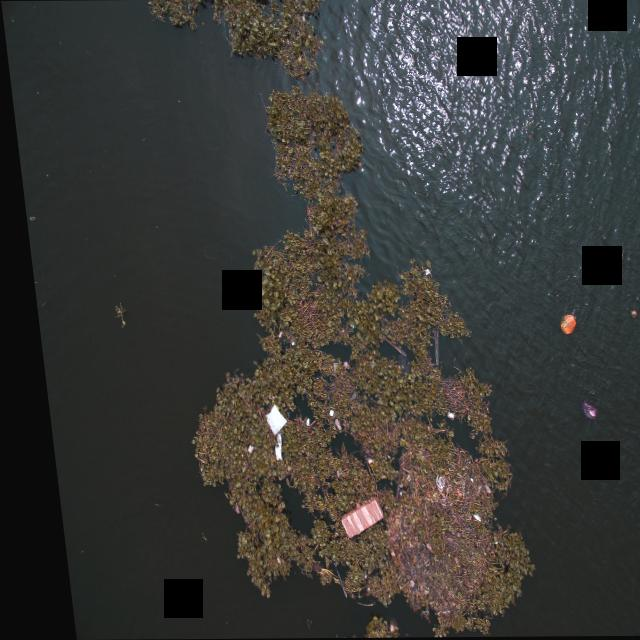plastic: (322, 497, 370, 543), (563, 398, 593, 426), (254, 403, 279, 433), (547, 312, 570, 336), (259, 433, 276, 465), (457, 511, 471, 529), (320, 360, 333, 378), (333, 391, 348, 405), (618, 307, 630, 320), (432, 409, 445, 421), (415, 265, 426, 279), (469, 483, 480, 495), (265, 327, 276, 339), (233, 442, 244, 453), (316, 404, 324, 418), (323, 419, 331, 432), (340, 321, 347, 331), (292, 418, 300, 426), (397, 479, 404, 487), (384, 490, 391, 498)
